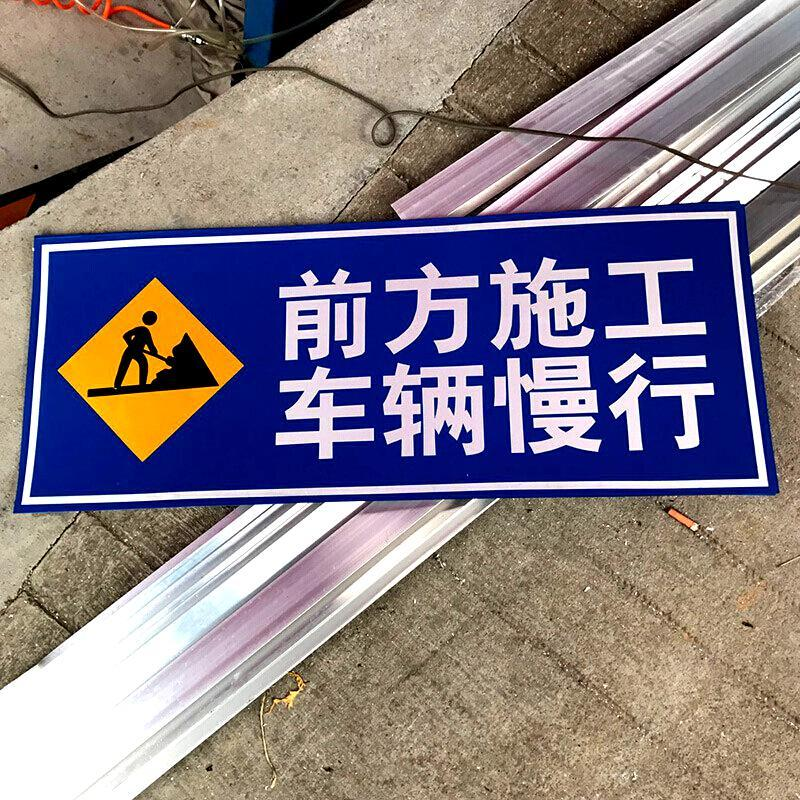sign: (24, 213, 748, 501)
